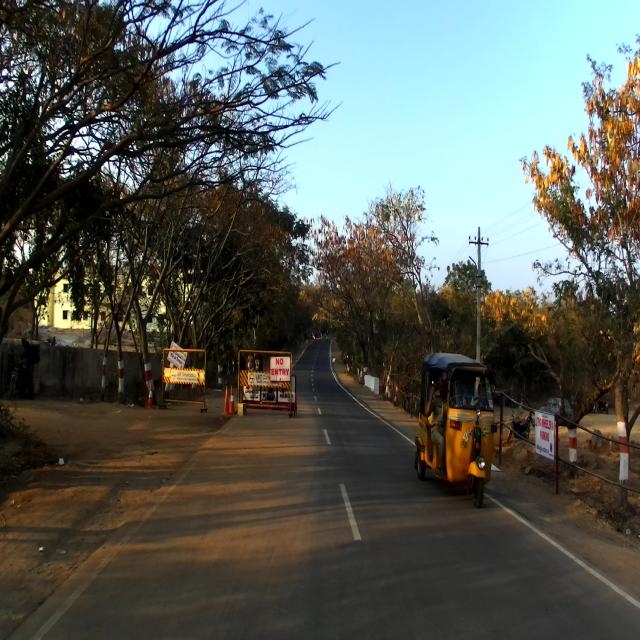auto ahead at: (415, 352, 499, 505)
barrier ahead at: (229, 348, 298, 423), (160, 344, 210, 420)
